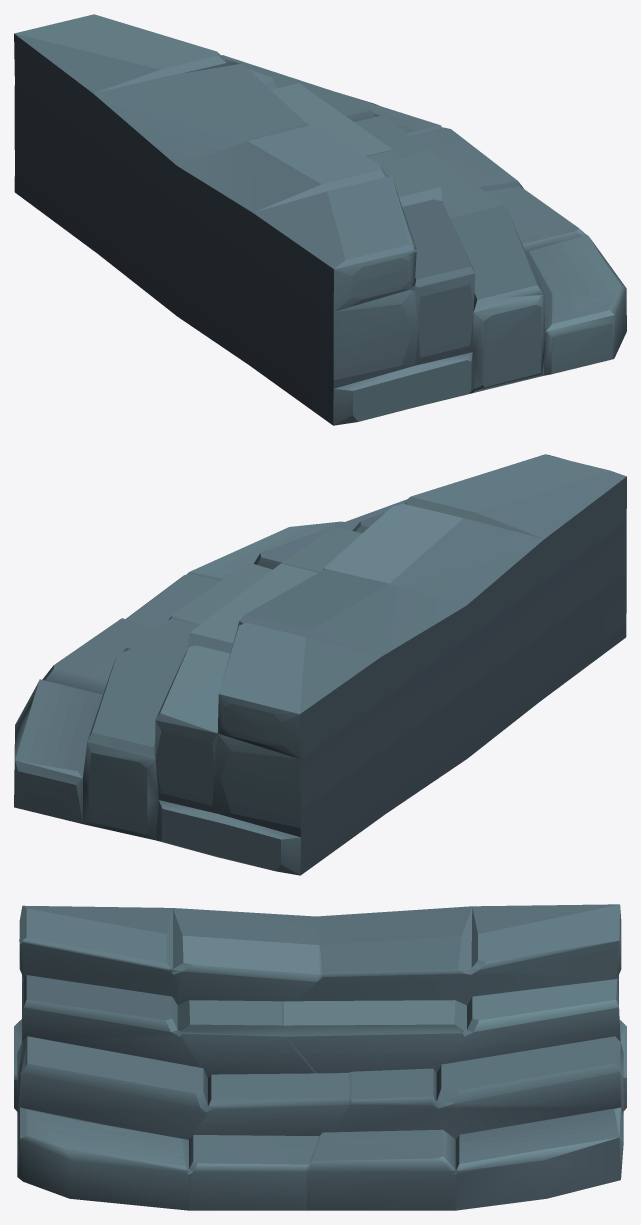
The model's file is Modular_Dungeon_Stairs_Start.fbx.
The picture shows the model from 3 angles, top to bottom: view 1: azimuth 30°, elevation 25°; view 2: azimuth 150°, elevation 25°; view 3: azimuth 270°, elevation 25°; orthographic projection. The views are drawn at different scales.
Parts seen in each view (by area): view 1: Stairs_Start; view 2: Stairs_Start; view 3: Stairs_Start.
Boxes of the visible parts, <box> form: Stairs_Start: <box>14,14,626,425</box>; Stairs_Start: <box>14,454,626,875</box>; Stairs_Start: <box>14,904,626,1210</box>.
Size of the model in its own units: 4.33 by 1.99 by 7.14.
Materials: 1 (1 with a texture image).
